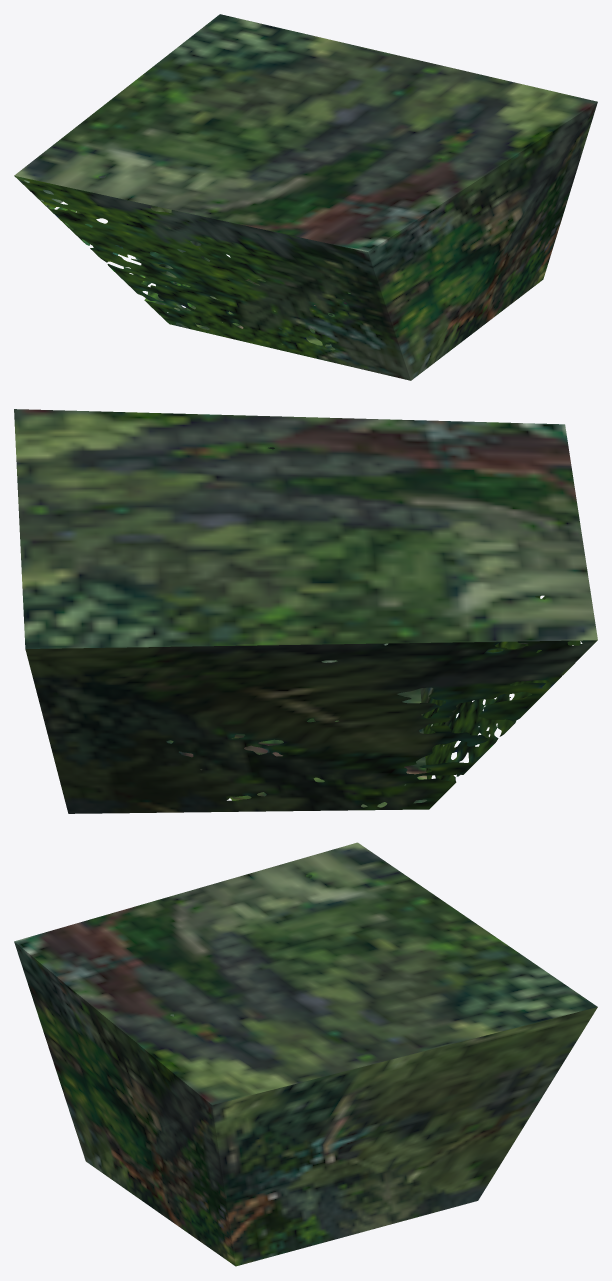
Rendered from BurntTree_2_B_2.gltf.
The picture shows the model from 3 angles, top to bottom: view 1: azimuth 30°, elevation 25°; view 2: azimuth 150°, elevation 25°; view 3: azimuth 270°, elevation 25°; orthographic projection. The views are drawn at different scales.
Parts seen in each view (by area): view 1: BurntTree_2_B_2; view 2: BurntTree_2_B_2; view 3: BurntTree_2_B_2.
Part boxes in pixels (<box>): BurntTree_2_B_2: <box>14,14,597,380</box>; BurntTree_2_B_2: <box>14,409,597,813</box>; BurntTree_2_B_2: <box>14,842,597,1266</box>.
Size of the model in its own units: 0.9495 by 0.3104 by 0.8936.
Materials: 1 (1 with a texture image).
